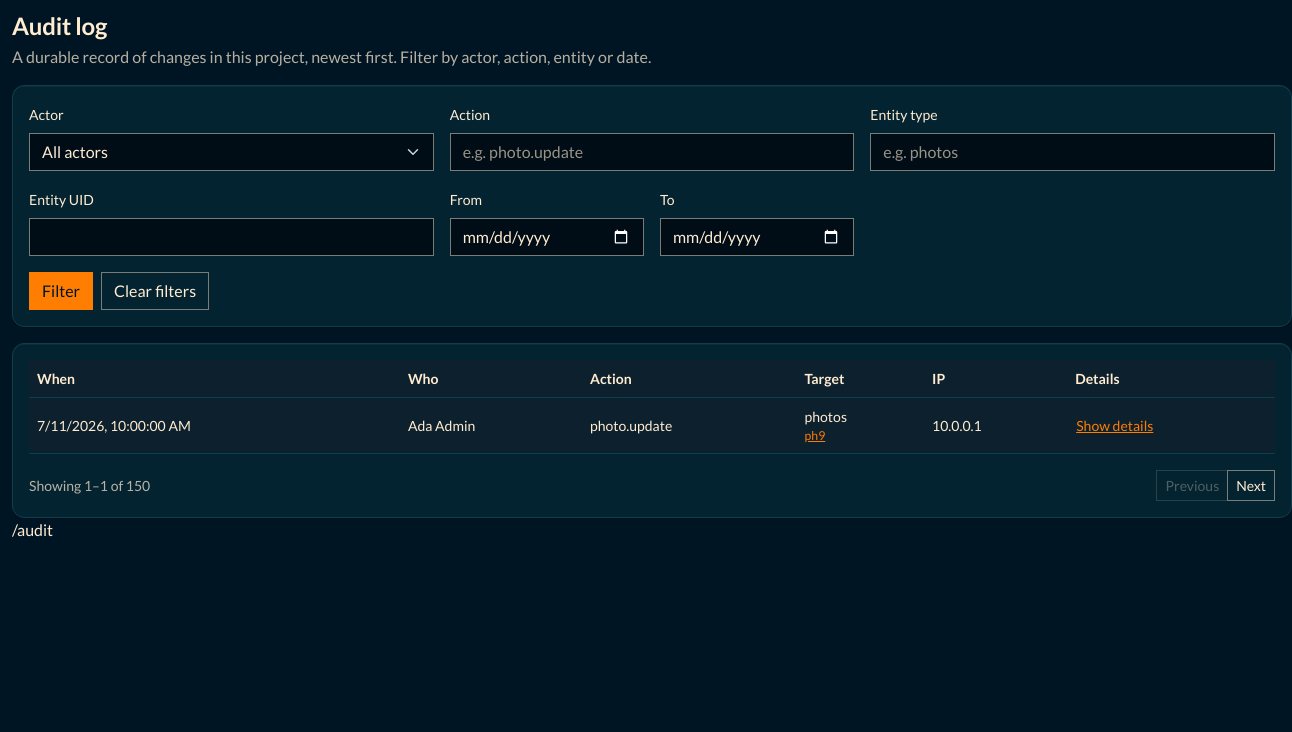
Test: AuditPage › paginates to the next page using next_offset
Expected: the table is shown, [29,360,1275,454]
Click the button "Next": [1251, 486] box [1227,470,1275,501]
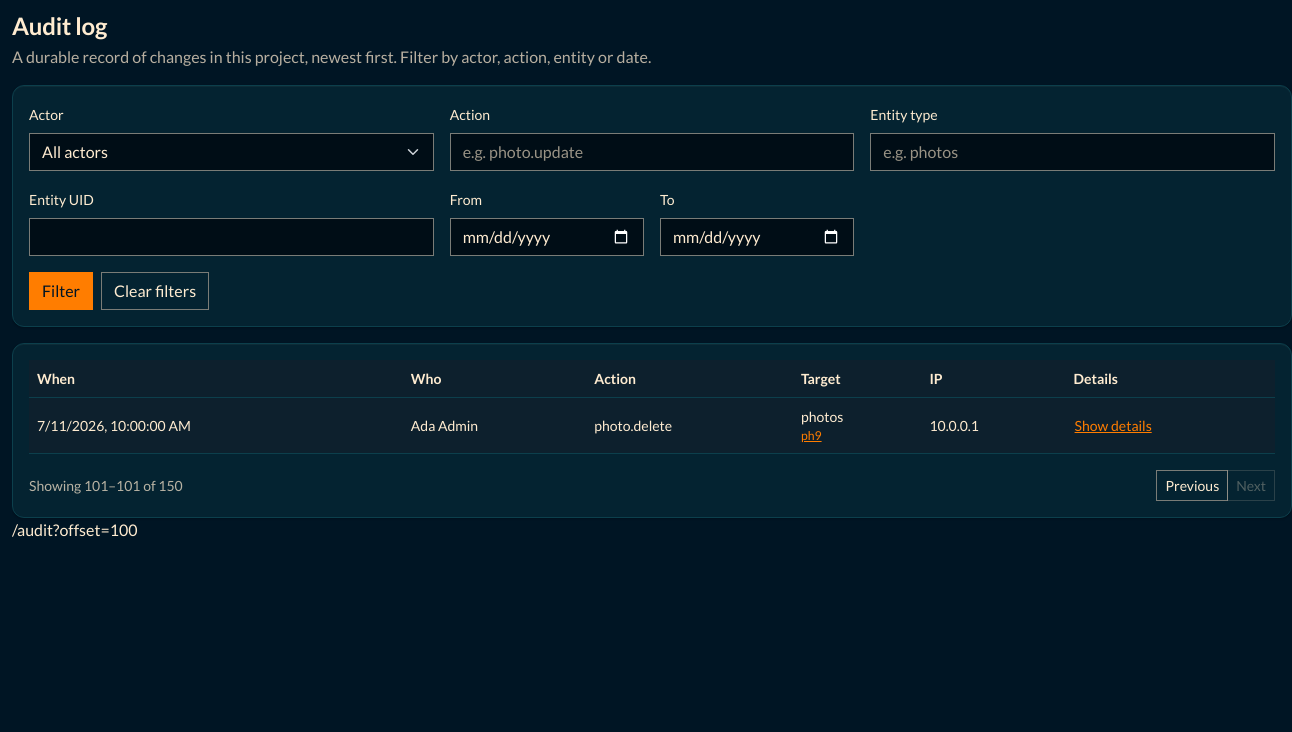
Expected: the text with test id "location" shows "offset=100", [12,520,138,539]
